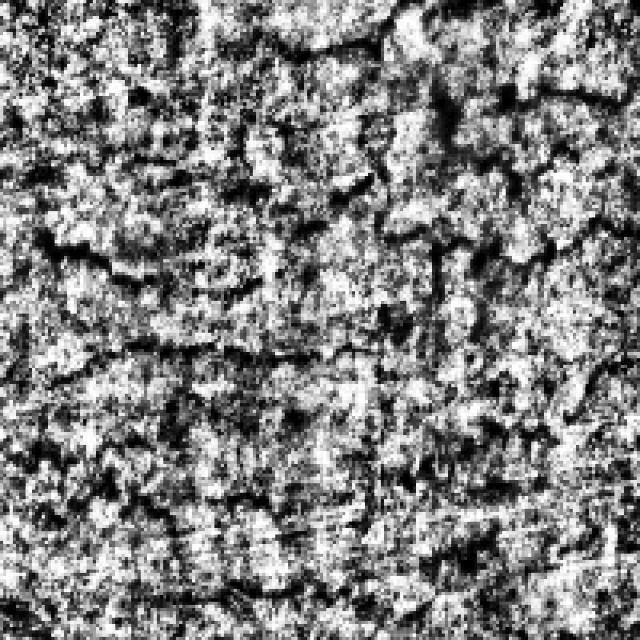Pitted_Surface: (0, 64, 630, 384), (16, 467, 579, 608)
